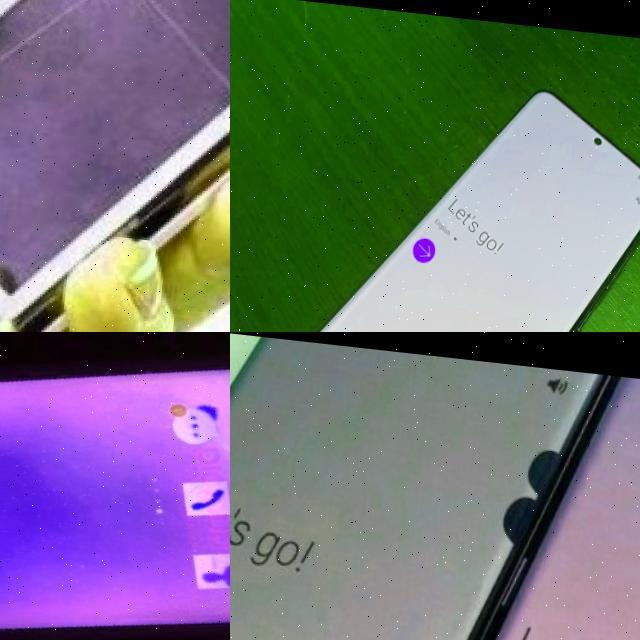dead pixel: (479, 412, 589, 557)
